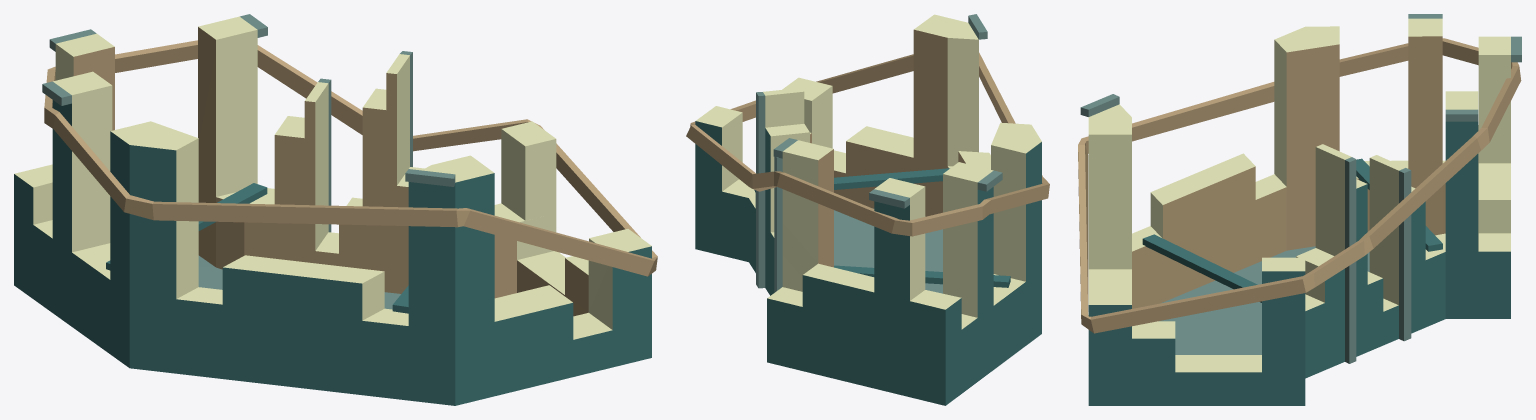
Rendered from ModuloEsquinaRoto.fbx.
The picture shows the model from 3 angles, left to right: view 1: azimuth 30°, elevation 25°; view 2: azimuth 150°, elevation 25°; view 3: azimuth 270°, elevation 25°; orthographic projection. The views are drawn at different scales.
Visible parts, largest first — view 1: Cube.130, Cube.134, Cube.131; view 2: Cube.130, Cube.134, Cube.133, Cube.131; view 3: Cube.130, Cube.134, Cube.133, Cube.131.
Boxes of the visible parts, <box> form: Cube.130: <box>14,14,651,405</box>; Cube.134: <box>44,40,657,276</box>; Cube.131: <box>106,183,267,270</box>; Cube.130: <box>695,14,1041,405</box>; Cube.134: <box>686,52,1049,236</box>; Cube.133: <box>754,168,949,192</box>; Cube.131: <box>834,265,1010,287</box>; Cube.130: <box>1080,14,1521,405</box>; Cube.134: <box>1078,38,1521,333</box>; Cube.133: <box>1142,234,1261,302</box>; Cube.131: <box>1356,158,1442,251</box>.
Size of the model in its own units: 406 by 213 by 410.
